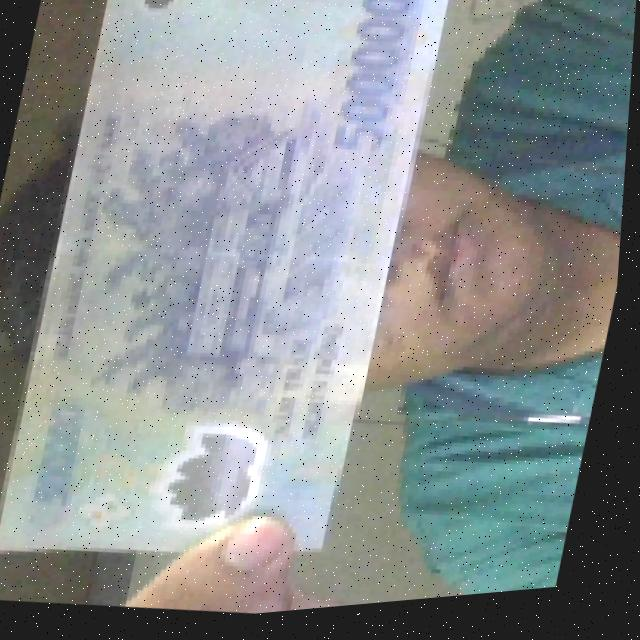500 000 VND: (0, 0, 459, 606)
